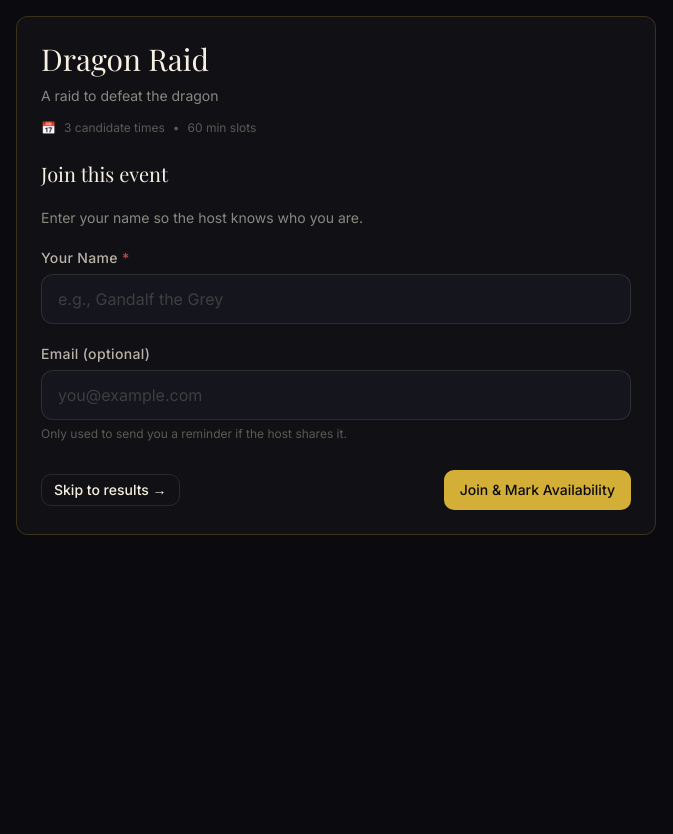
it: PublicEventPage › clicking a slot cycles weight states
Expected: the heading "Join this event" is shown, [41, 160, 168, 187]
Type "Gandalf" into the field labelled "Your Name*" at (336,299), box [41, 274, 631, 324]
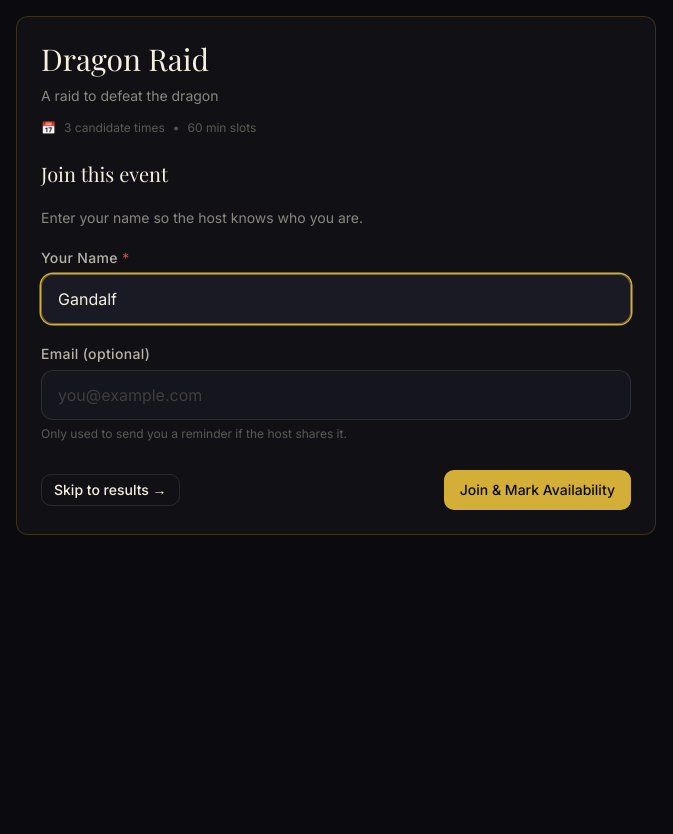
Click the button "Join & Mark Availability" at (537,490), box [444, 470, 631, 510]
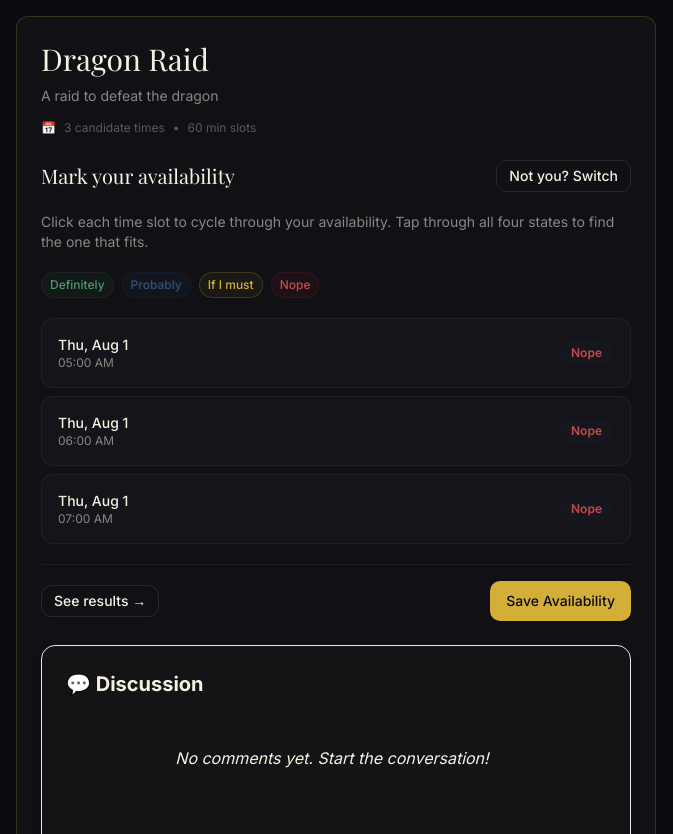
Expected: the heading "Mark your availability" is shown, [41, 162, 235, 190]
Expected: the button "Thu, Aug 1 05:00 AM Nope" is shown
Click once → cycles to "Definitely"
Click the button "Thu, Aug 1 05:00 AM Nope" at (93,344), box [41, 318, 631, 388]
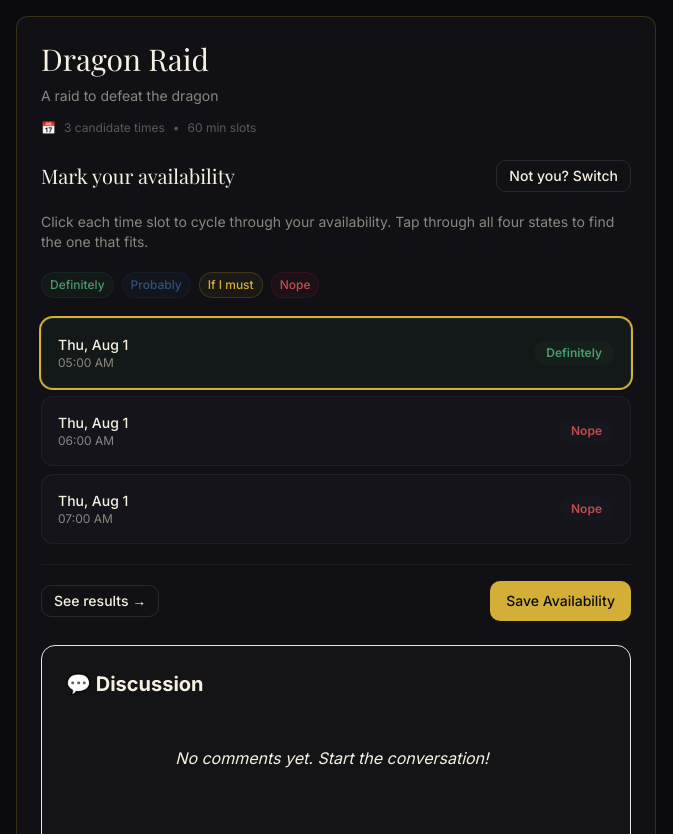
Expected: the button "Thu, Aug 1 05:00 AM Definitely" is shown
Click again → cycles to "Probably"
Click the button "Thu, Aug 1 05:00 AM Definitely" at (93,344), box [41, 318, 631, 388]
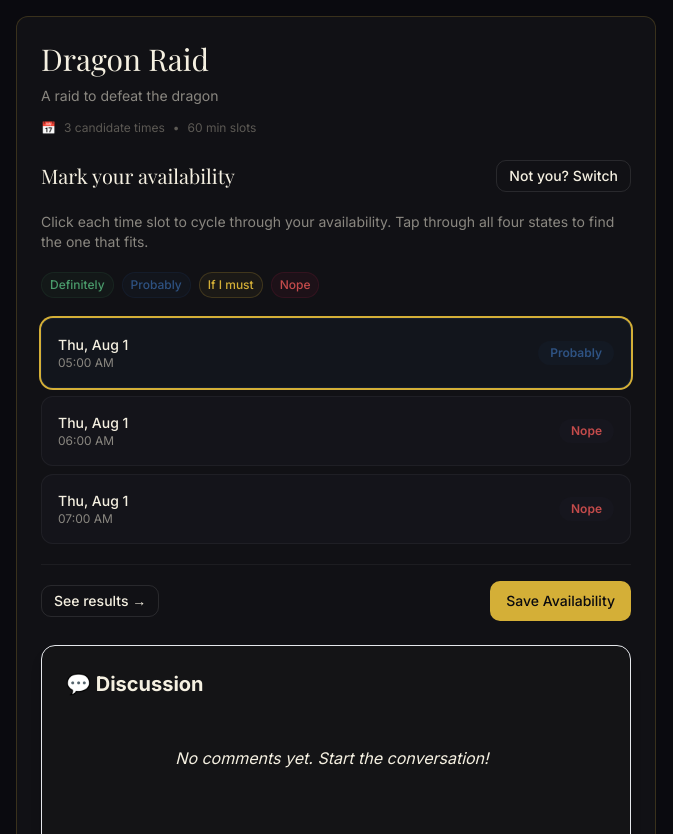
Expected: the button "Thu, Aug 1 05:00 AM Probably" is shown
Click again → cycles to "If I must"
Click the button "Thu, Aug 1 05:00 AM Probably" at (93,344), box [41, 318, 631, 388]
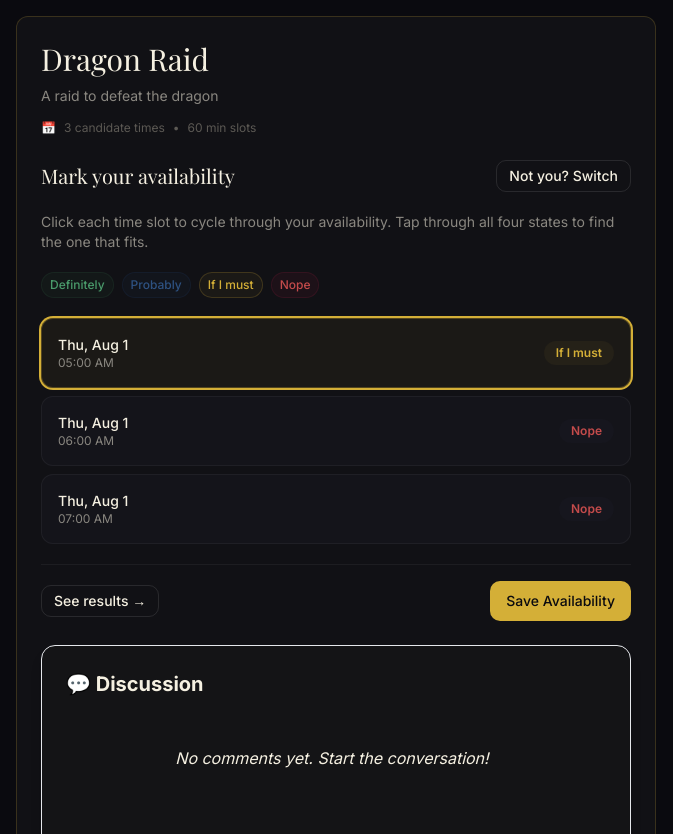
Expected: the button "Thu, Aug 1 05:00 AM If I must" is shown
Click again → cycles back to "Nope"
Click the button "Thu, Aug 1 05:00 AM If I must" at (93,344), box [41, 318, 631, 388]
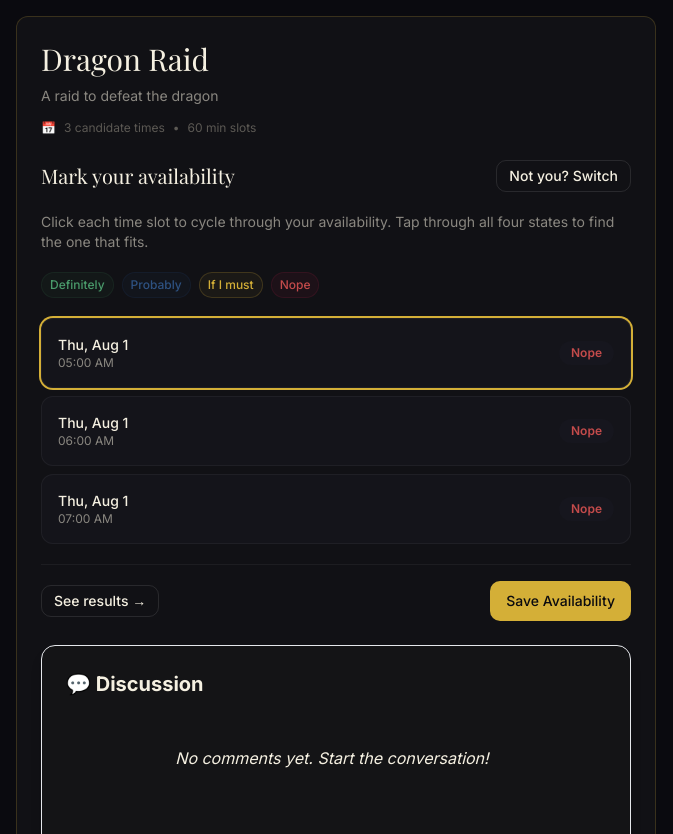
Expected: the button "Thu, Aug 1 05:00 AM Nope" is shown, [41, 318, 631, 388]
